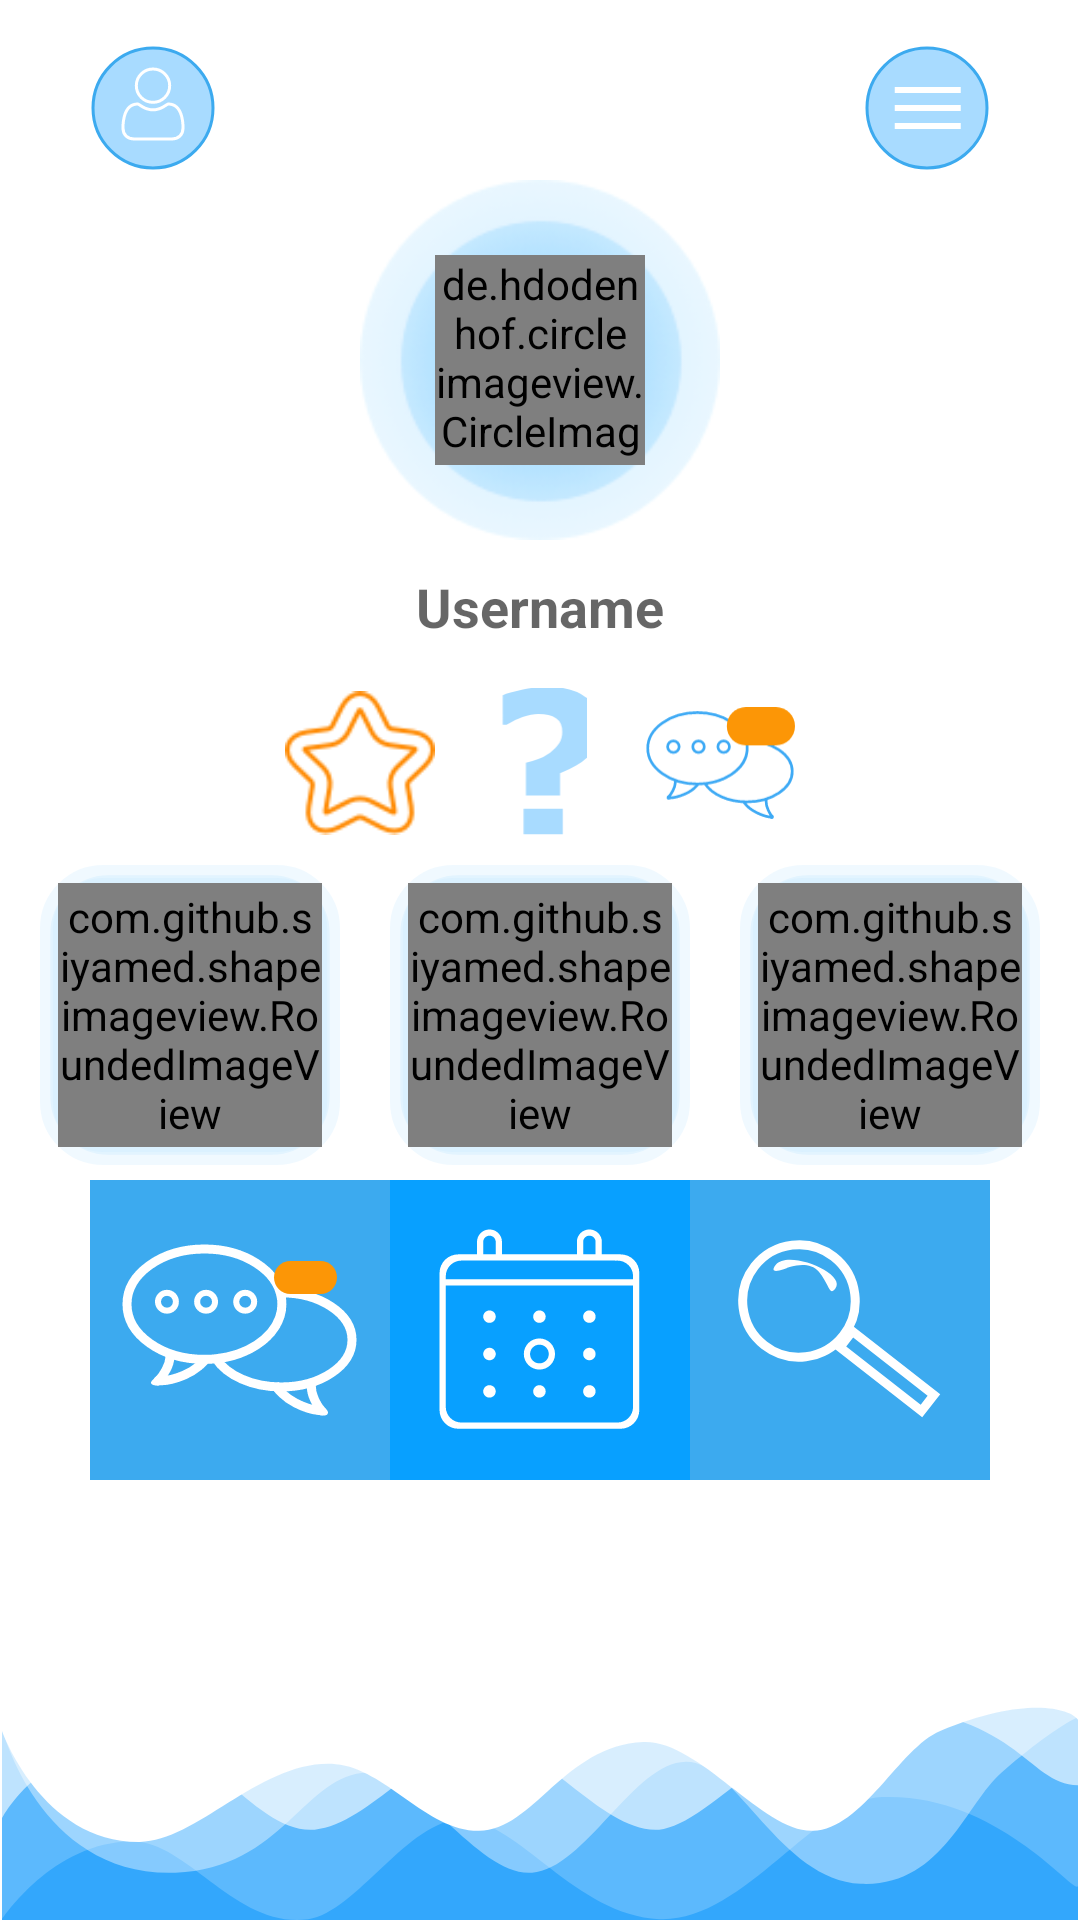

Icon bounding boxes for this 1080 x 1920 phone screenshot, format (x1, y1, x2, y2):
gotoprofile: (91, 46, 215, 170)
gotosetting: (865, 46, 989, 170)
iconcalendarwhite: (439, 1229, 640, 1429)
iconchatsmall: (646, 707, 795, 819)
iconchatwhite: (122, 1244, 357, 1416)
iconfavoriteorange: (285, 691, 435, 835)
iconfindwhite: (738, 1240, 940, 1417)
